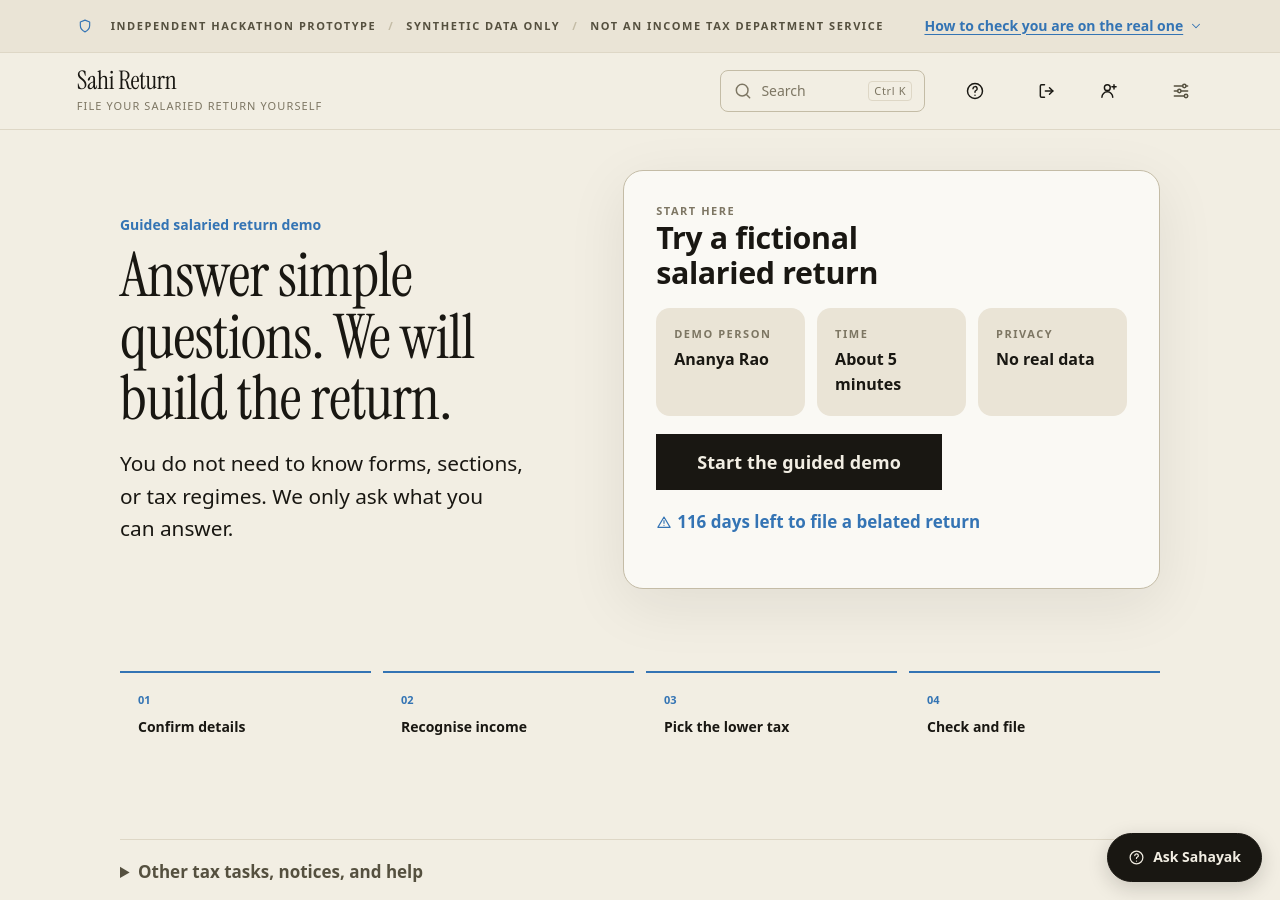
Sahi Return salaried filing journey › switches the complete journey shell to Hindi
Click the button named "Settings" at (1181, 91), box [1159,69,1203,113]
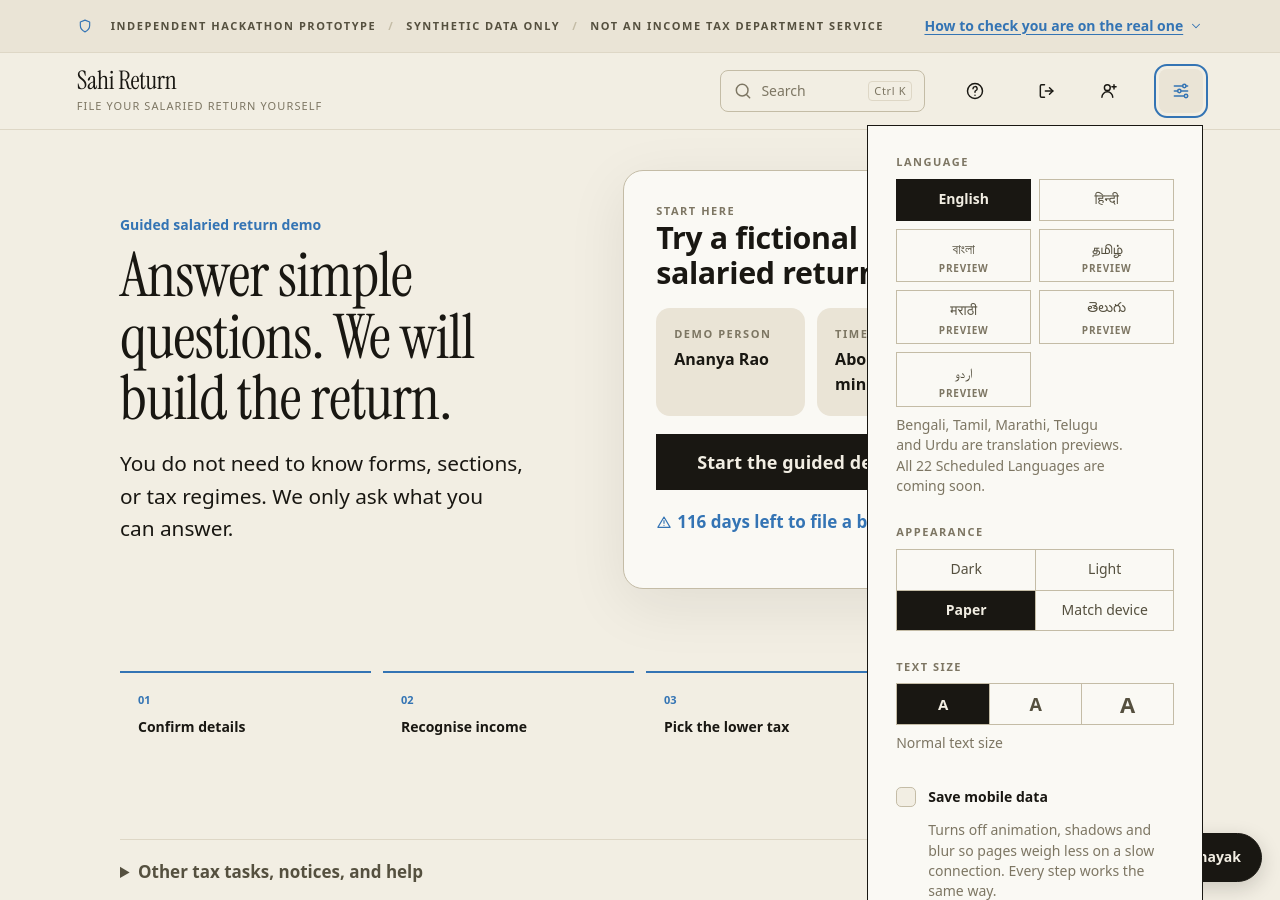
Click the button "हिन्दी" at (1107, 200), box [1039,178,1174,220]
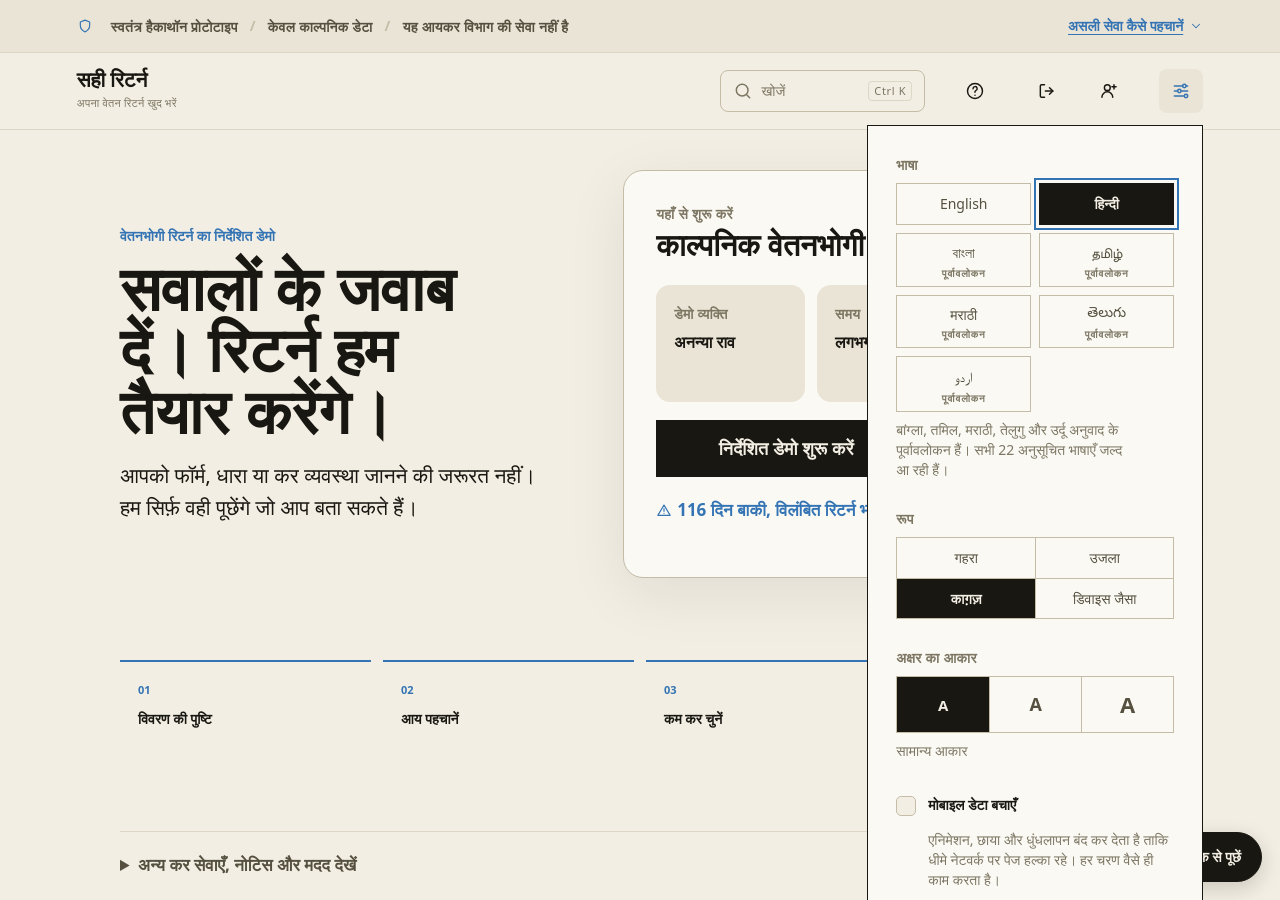
Expected: the heading "सवालों के जवाब दें। रिटर्न हम तैयार करेंगे।" is shown, [120,245,455,452]
Expected: the button "निर्देशित डेमो शुरू करें" is shown, [656,420,916,477]
